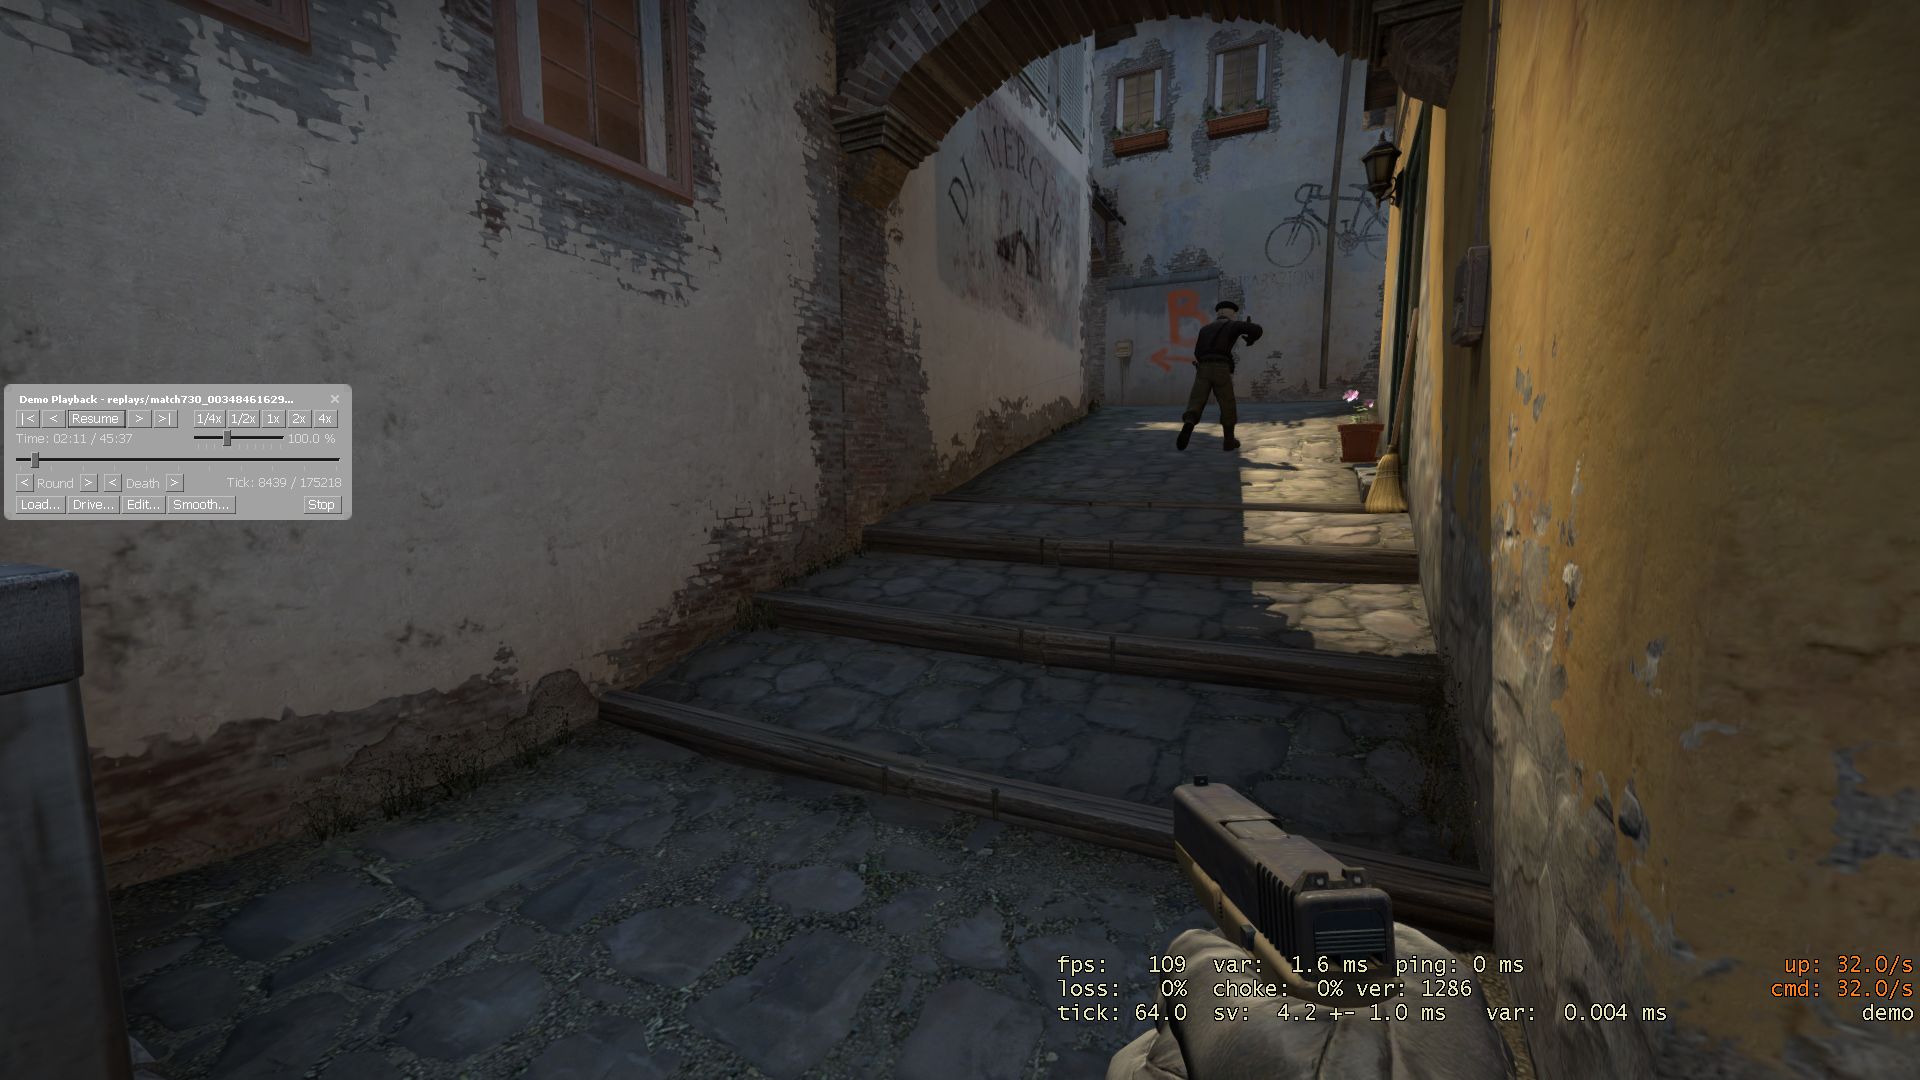t: (1178, 302, 1263, 452)
